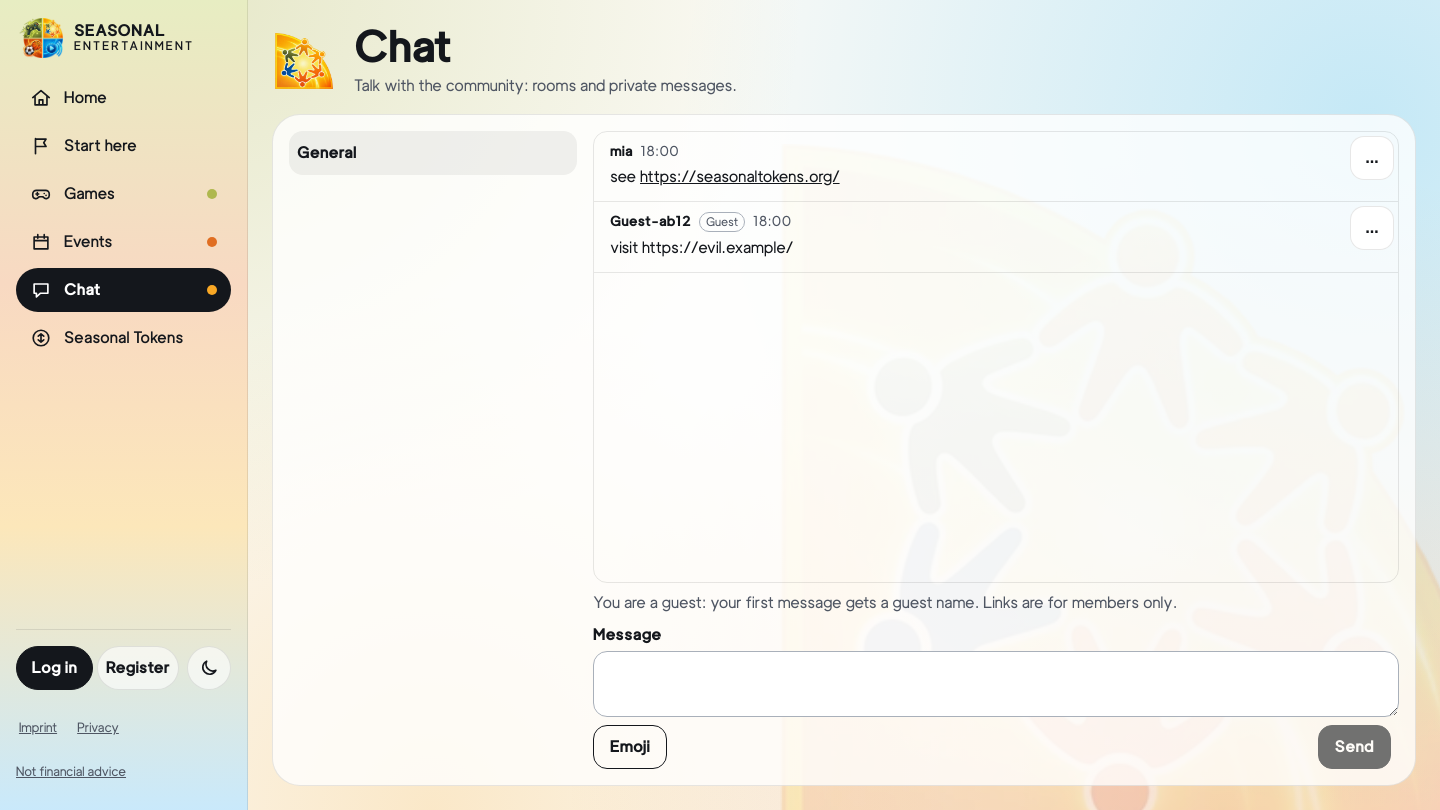
Test case: chat page › a guest writes; links of guests stay text, members get real links
Expected: the text "visit https://evil.example/" is shown, [610, 238, 793, 257]
Expected: the text "Guest" is shown once, [699, 212, 745, 232]
Type "hello" into the text box labelled "Message" at [996, 684], box [593, 651, 1399, 717]
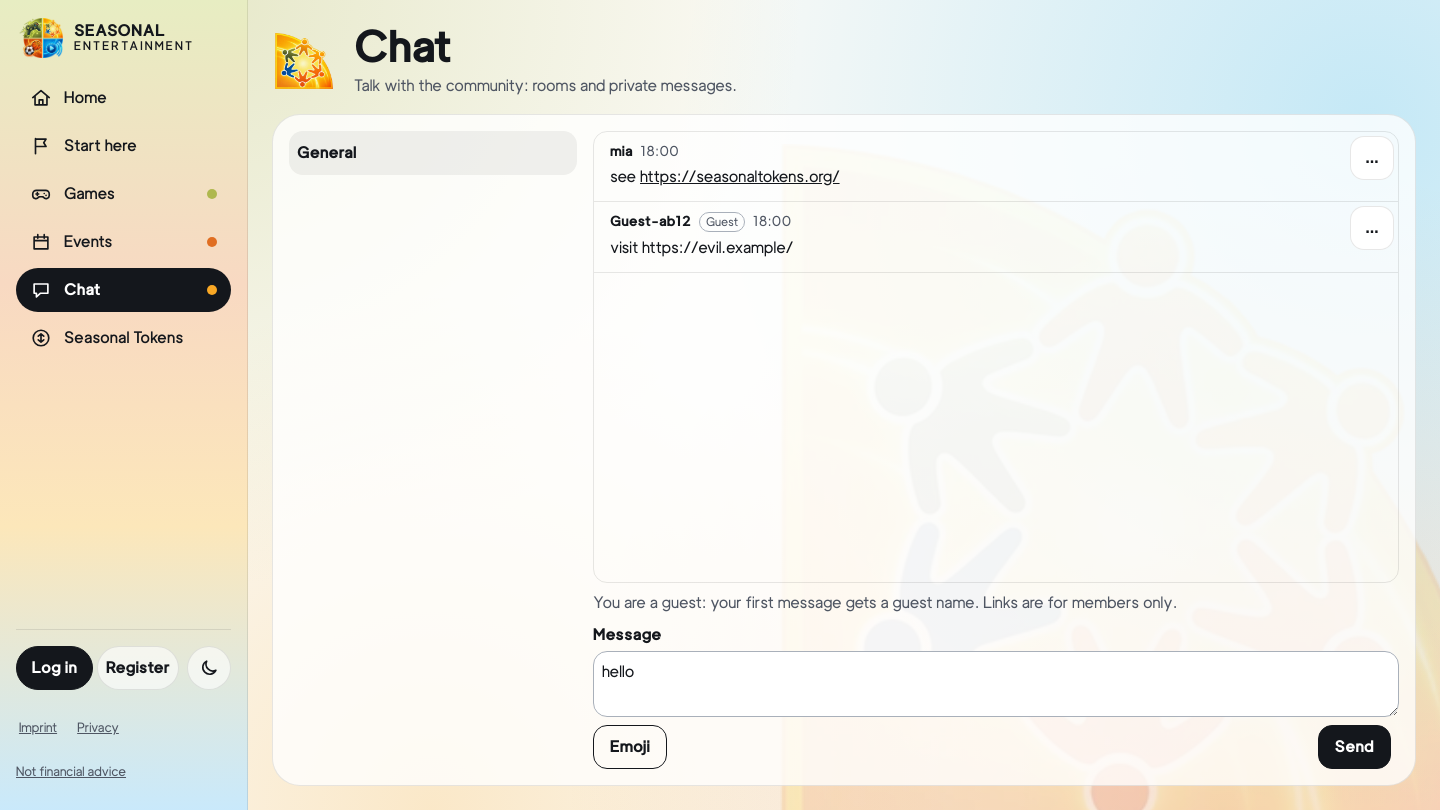
Click the button "Send" at [1354, 747], box [1318, 725, 1391, 769]
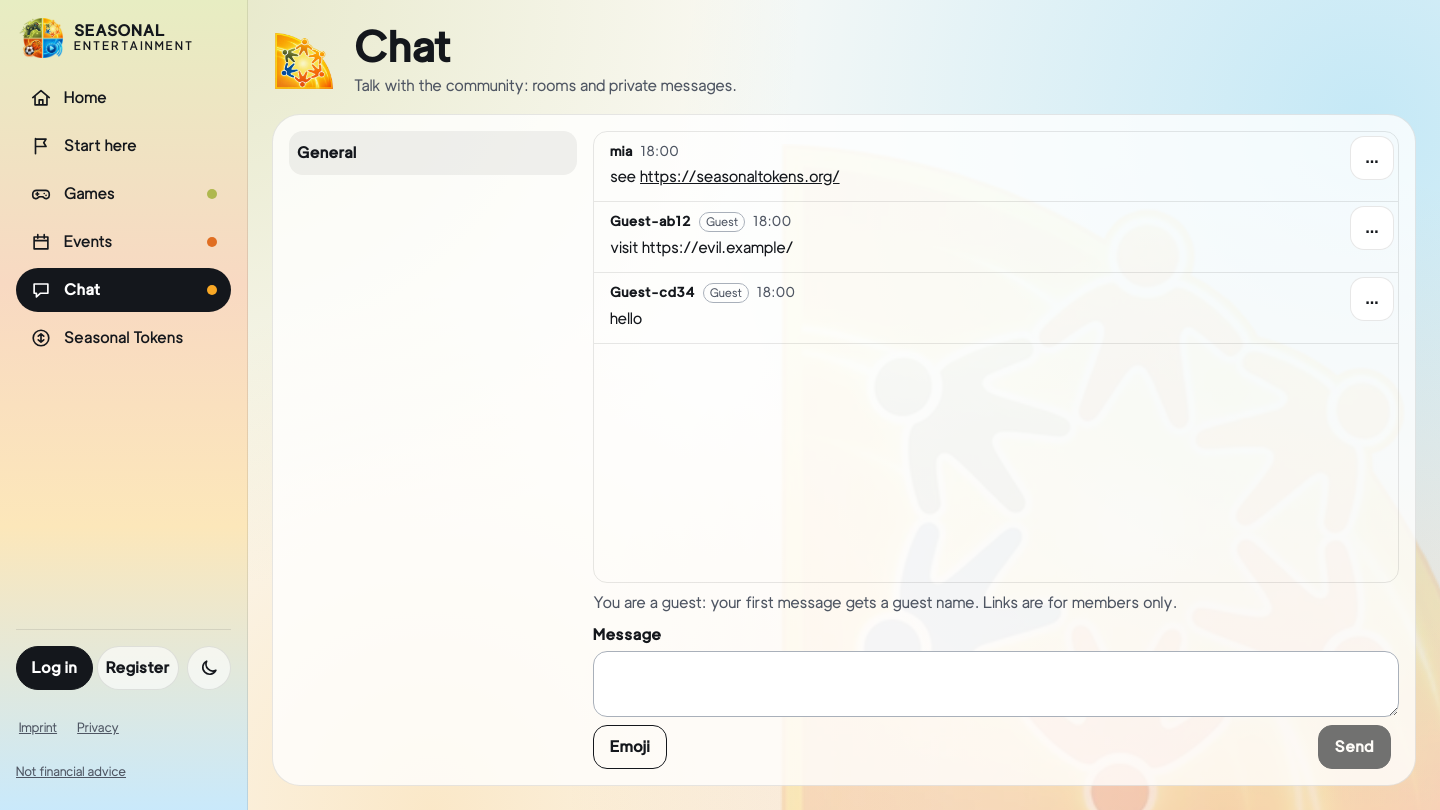
Expected: the text "hello" is shown, [610, 309, 642, 328]
